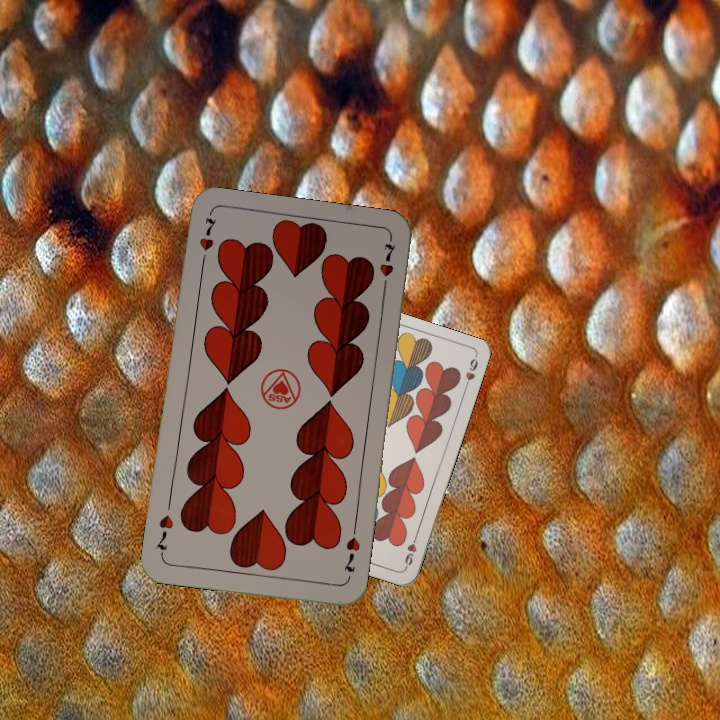H7: (195, 211, 219, 270), (339, 533, 363, 575)
H9: (401, 531, 420, 571)
